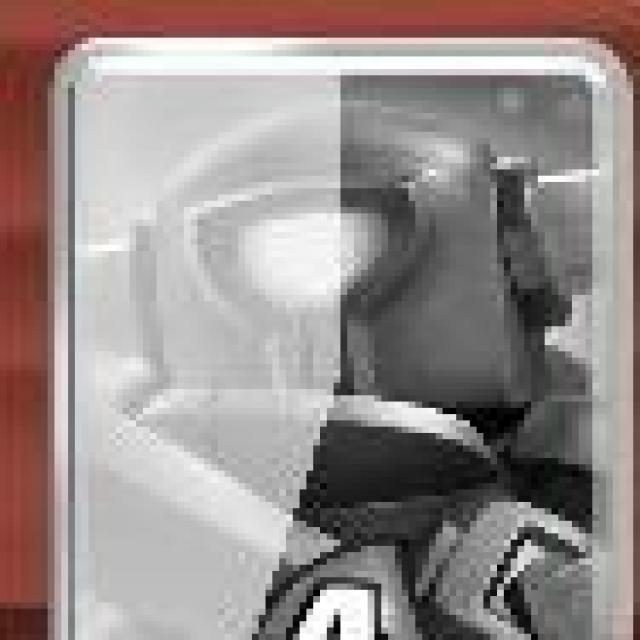Mini_Pekka: (47, 33, 632, 635)
